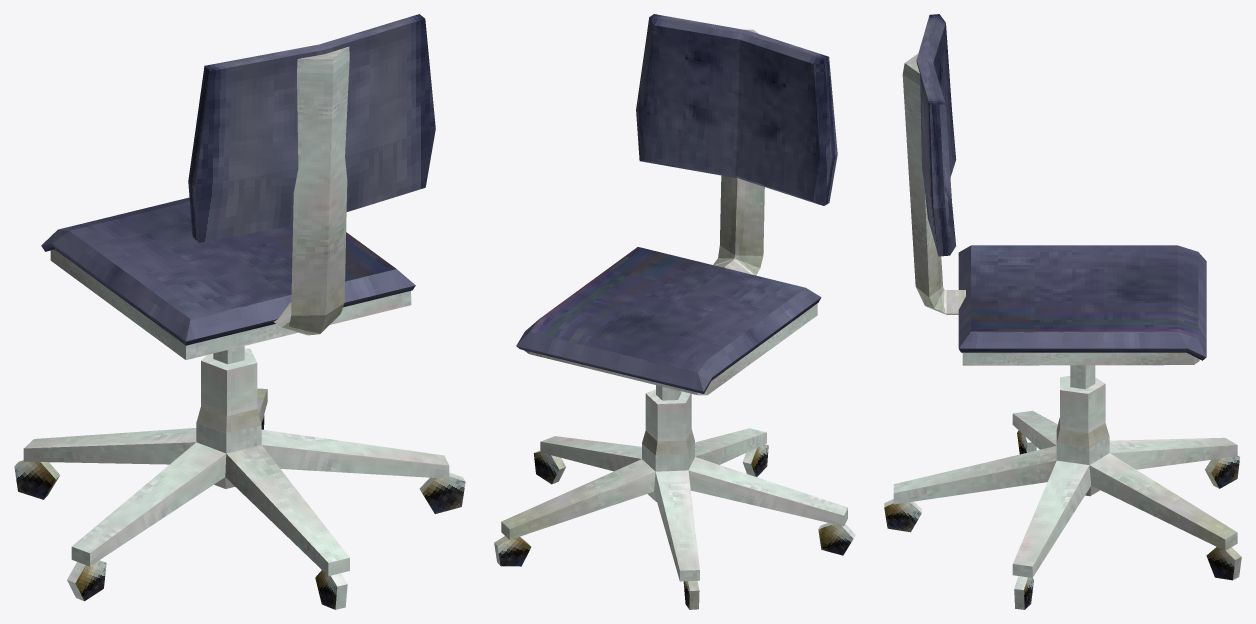
The model's file is office_chair_blue_alt.glb.
The picture shows the model from 3 angles, left to right: view 1: azimuth 30°, elevation 25°; view 2: azimuth 150°, elevation 25°; view 3: azimuth 270°, elevation 25°; orthographic projection. The views are drawn at different scales.
Parts seen in each view (by area): view 1: office_chair_blue_alt; view 2: office_chair_blue_alt; view 3: office_chair_blue_alt.
Boxes of the visible parts, x1,y1,x2,y2 form: office_chair_blue_alt: (14, 14, 465, 609); office_chair_blue_alt: (494, 14, 855, 609); office_chair_blue_alt: (884, 14, 1241, 609).
Bounding box in the file's own units: 0.8196 × 1.1 × 0.7513.
Materials: 1 (1 with a texture image).
